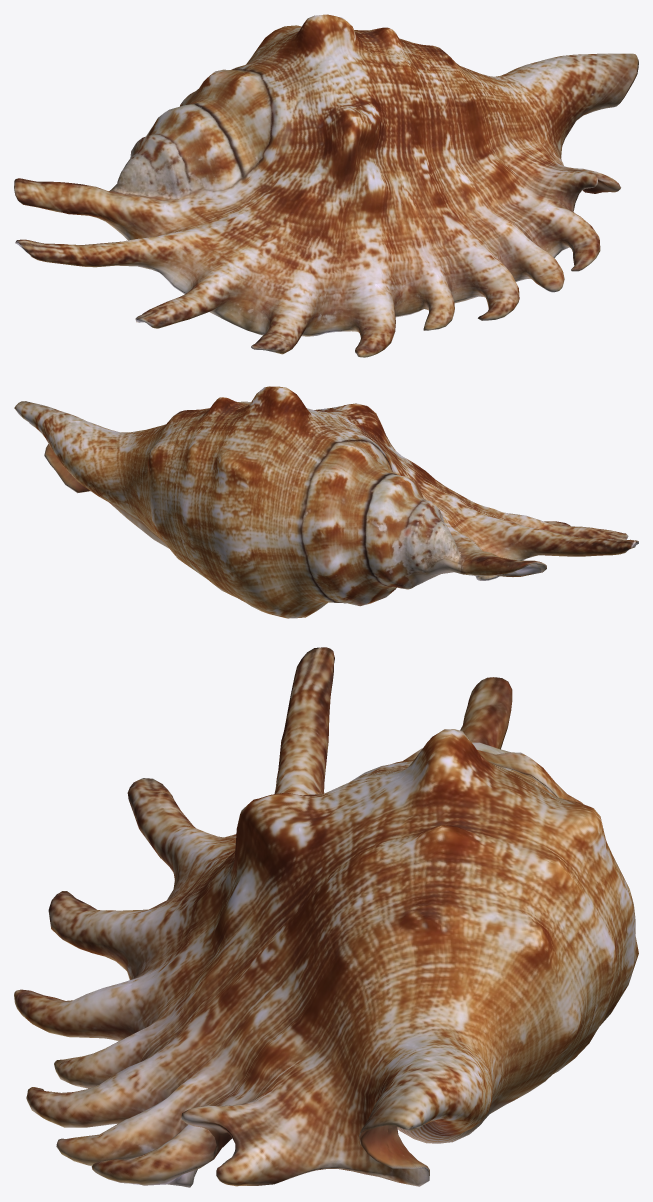
File: lambis_shell.glb
3 views of the same model, one above another, from view 1: azimuth 30°, elevation 25°; view 2: azimuth 150°, elevation 25°; view 3: azimuth 270°, elevation 25° (orthographic). The views are drawn at different scales.
Visible parts, largest first — view 1: lambis_shell; view 2: lambis_shell; view 3: lambis_shell.
Boxes of the visible parts, box(x1,y1,x2,y2) form: lambis_shell: box(14, 14, 638, 357); lambis_shell: box(14, 386, 638, 618); lambis_shell: box(14, 647, 638, 1187).
Bounding box in the file's own units: 0.1395 × 0.0465 × 0.0745.
1 material, 1 textured.
